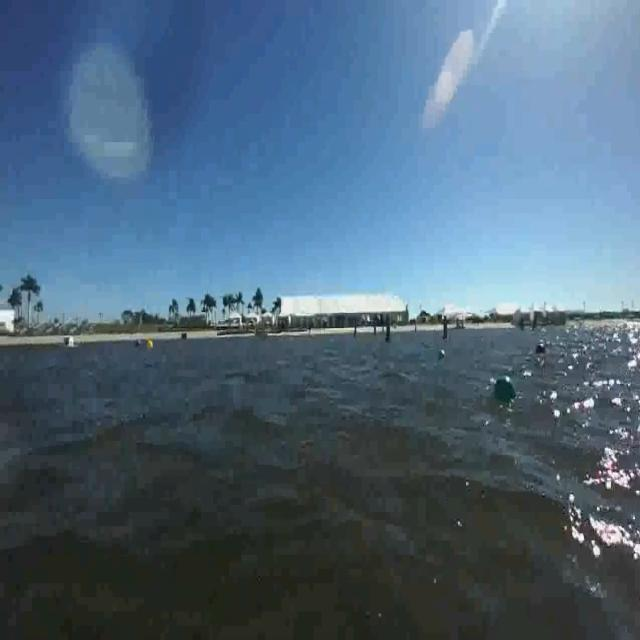yellow-buoy: (146, 338, 156, 353)
